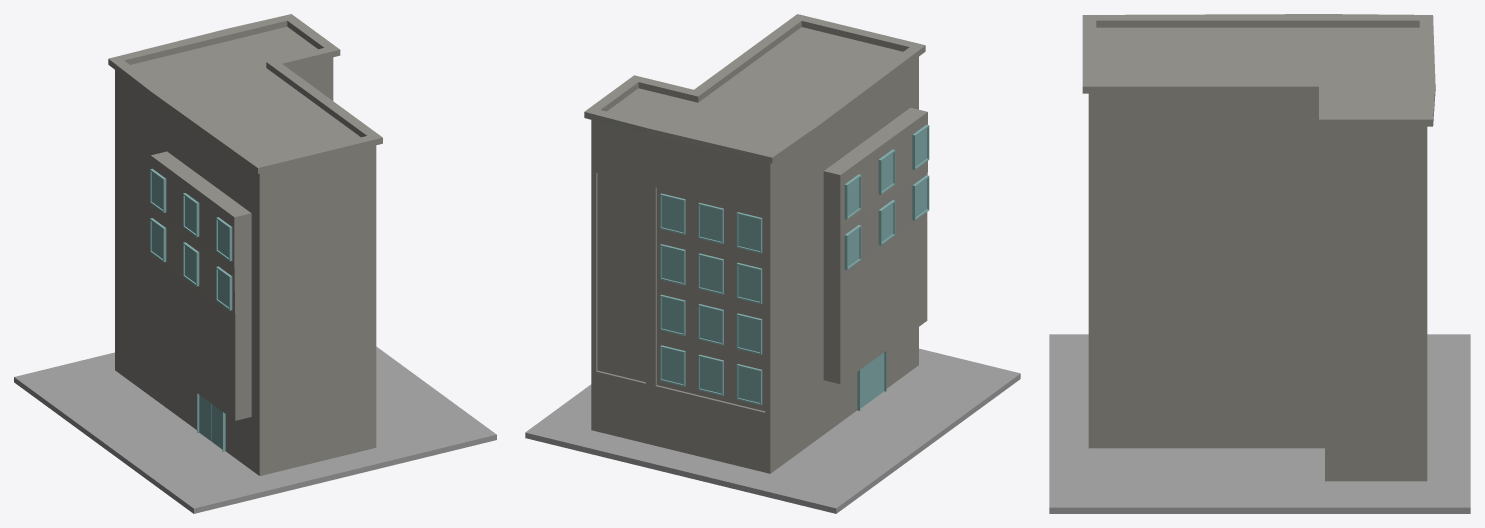
The model's file is edificio2.fbx.
3 renders of one model, left to right at view 1: azimuth 30°, elevation 25°; view 2: azimuth 150°, elevation 25°; view 3: azimuth 270°, elevation 25°, orthographic. The views are drawn at different scales.
Parts seen in each view (by area): view 1: pCube7; view 2: pCube7; view 3: pCube7.
Part boxes in pixels (x1=…): pCube7: x1=14, y1=14, x2=496, y2=513; pCube7: x1=525, y1=14, x2=1020, y2=513; pCube7: x1=1049, y1=14, x2=1470, y2=513.
Bounding box in the file's own units: 456 × 455 × 469.
